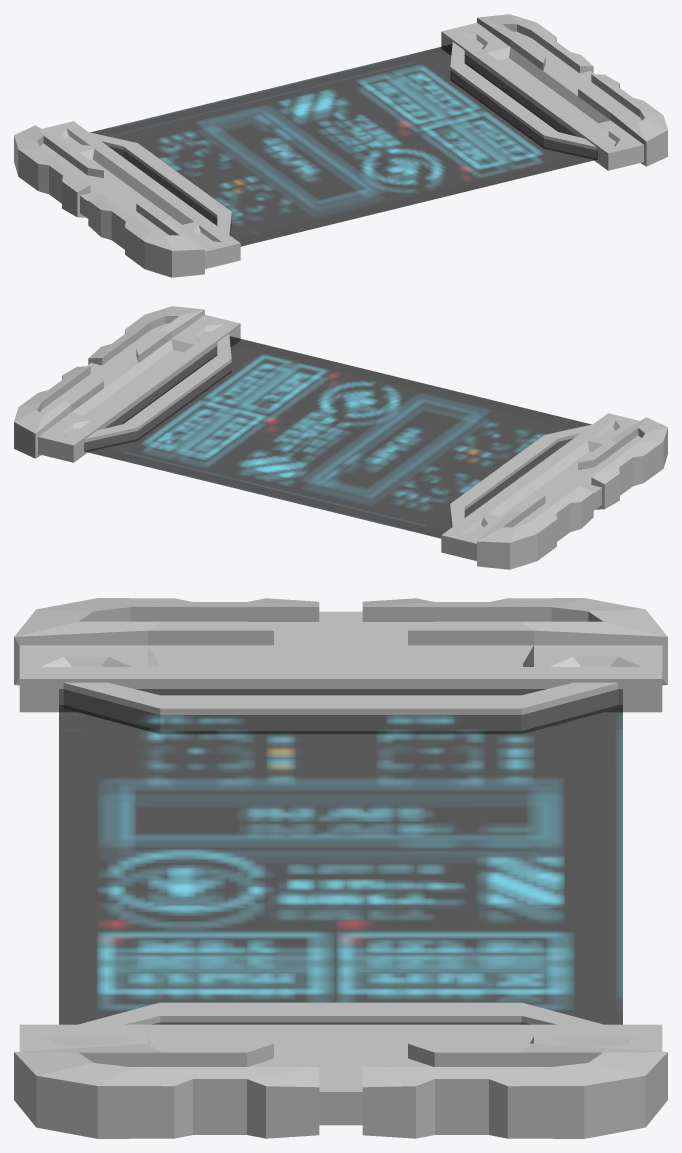
File: SM_Prop_Handheld_02.fbx
The picture shows the model from 3 angles, top to bottom: view 1: azimuth 30°, elevation 25°; view 2: azimuth 150°, elevation 25°; view 3: azimuth 270°, elevation 25°; orthographic projection. The views are drawn at different scales.
Parts seen in each view (by area): view 1: SM_Prop_Handheld_02; view 2: SM_Prop_Handheld_02; view 3: SM_Prop_Handheld_02.
Boxes of the visible parts, left/top/right/bottom form: SM_Prop_Handheld_02: left=14, top=14, right=667, bottom=277; SM_Prop_Handheld_02: left=14, top=306, right=667, bottom=569; SM_Prop_Handheld_02: left=14, top=598, right=667, bottom=1138.
Bounding box in the file's own units: 66.19 × 3.97 × 37.5.
